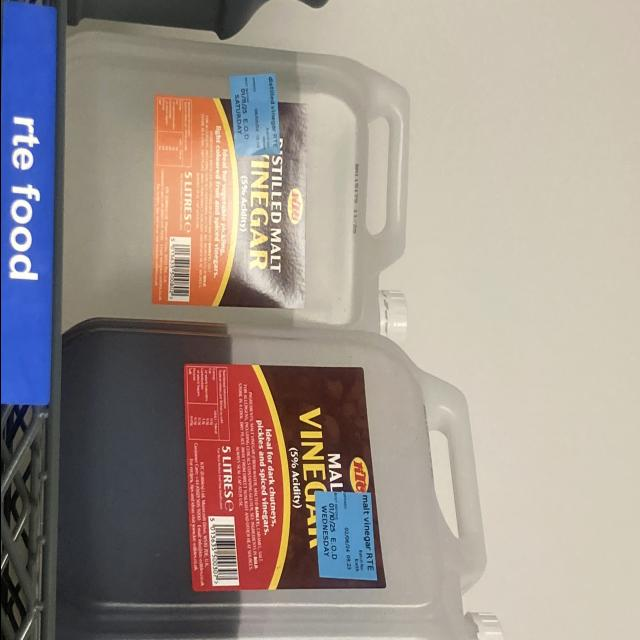product-labels: (314, 489, 378, 581), (229, 72, 281, 158)
